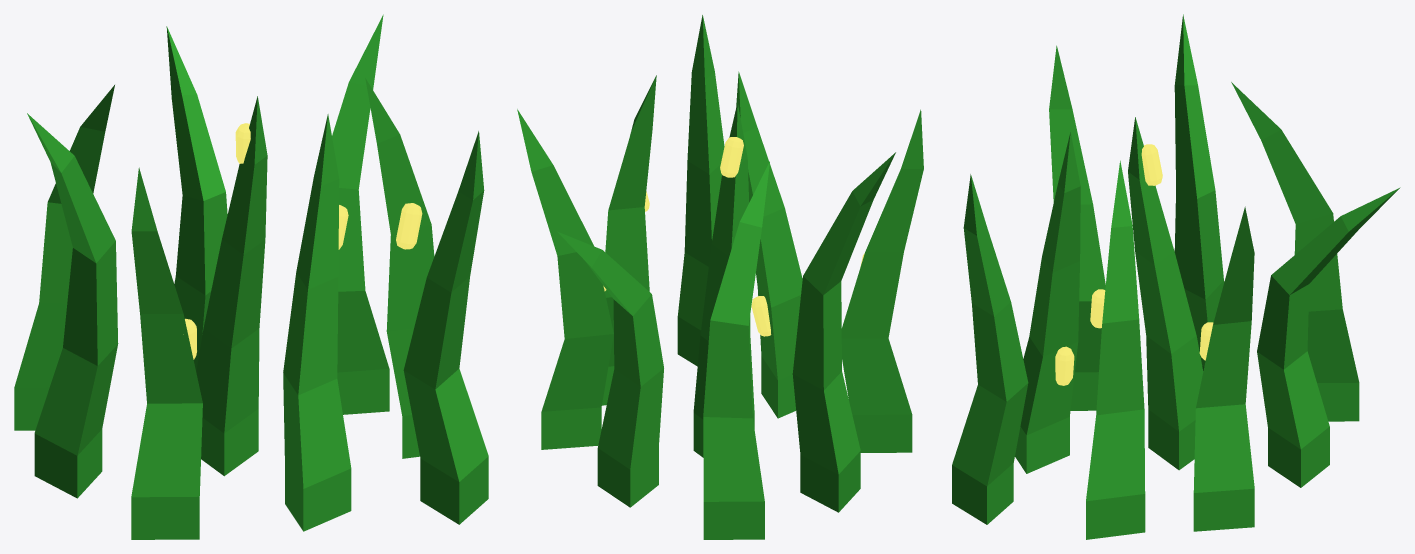
The model's file is Magic Grass.glb.
The picture shows the model from 3 angles, left to right: view 1: azimuth 30°, elevation 25°; view 2: azimuth 150°, elevation 25°; view 3: azimuth 270°, elevation 25°; orthographic projection. The views are drawn at different scales.
Visible parts, largest first — view 1: Cylinder.001, Cylinder.002; view 2: Cylinder.001, Cylinder.002; view 3: Cylinder.001, Cylinder.002.
Boxes of the visible parts, x1,y1,x2,y2 form: Cylinder.001: [14, 14, 488, 539]; Cylinder.002: [183, 123, 422, 359]; Cylinder.001: [517, 15, 923, 539]; Cylinder.002: [603, 137, 864, 336]; Cylinder.001: [952, 14, 1400, 539]; Cylinder.002: [1055, 144, 1213, 385].
Bounding box in the file's own units: 3.54 × 3.4 × 3.89.
